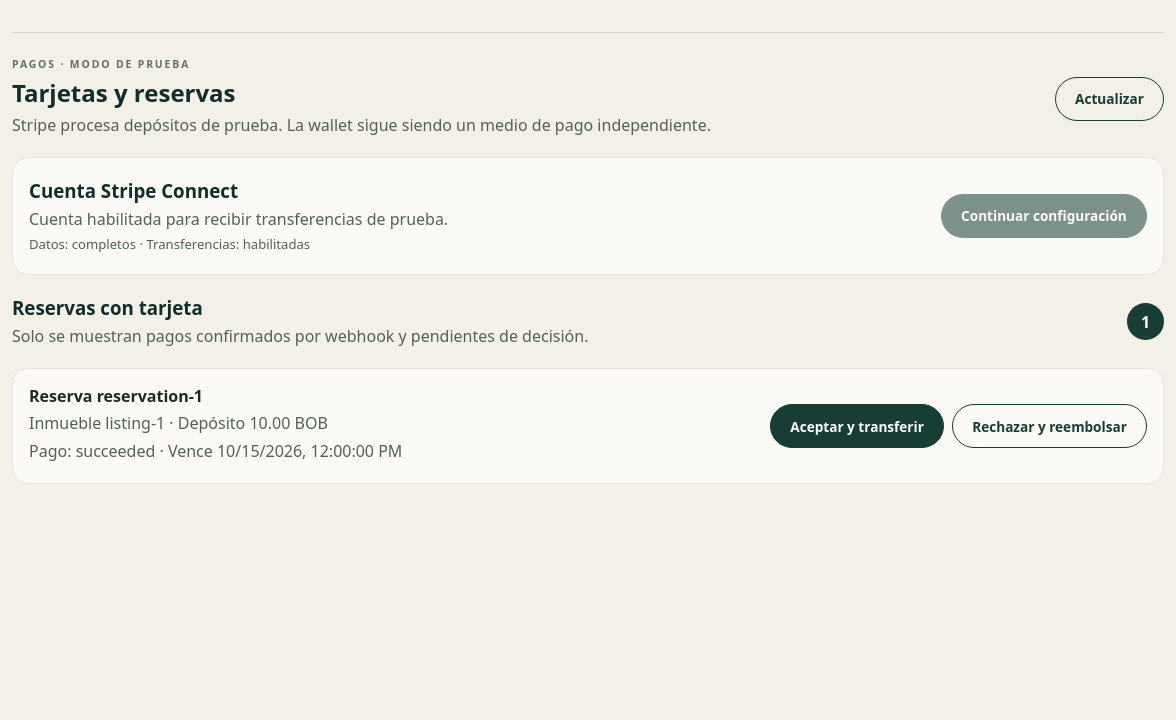
Test: StripeCardPaymentsAdmin › shows the agency queue and transfers a confirmed test payment on acceptance
Expected: the text "Inmueble listing-1 · Depósito 10.00 BOB" is shown, [29, 412, 328, 434]
Click the button "Aceptar y transferir". click: coordinates (857, 426)
box: [770, 404, 944, 448]
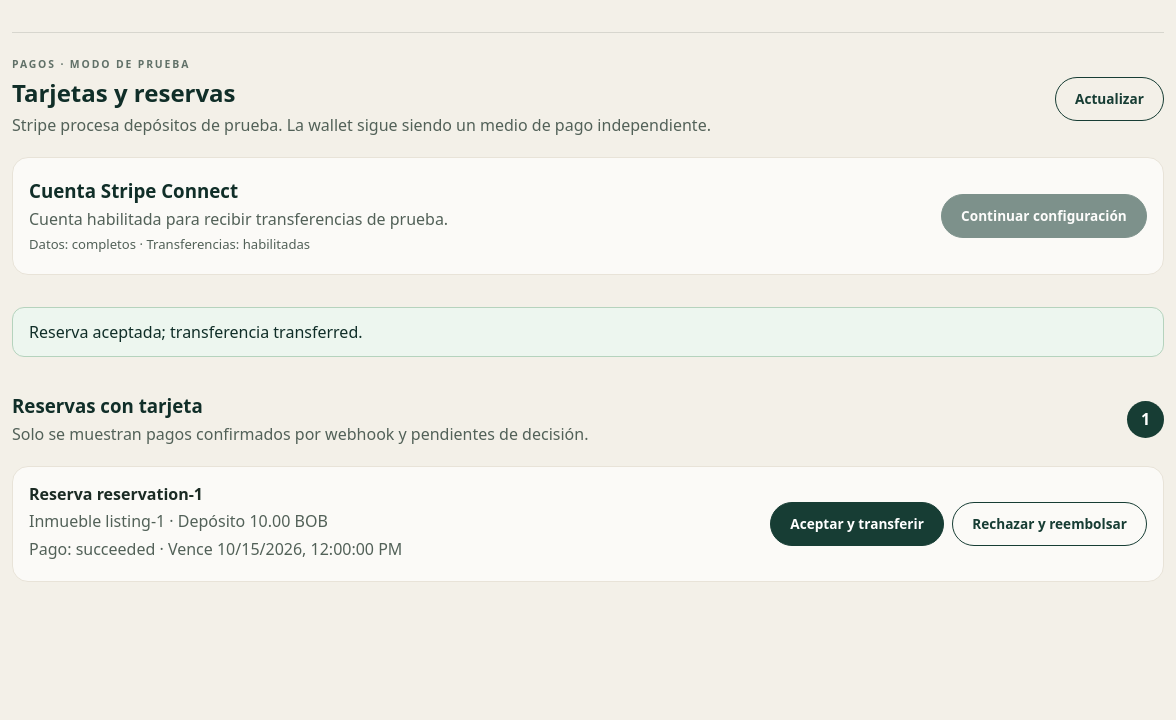
Now the message reads "Reserva aceptada; transferencia transferred.", box [29, 321, 362, 343]
